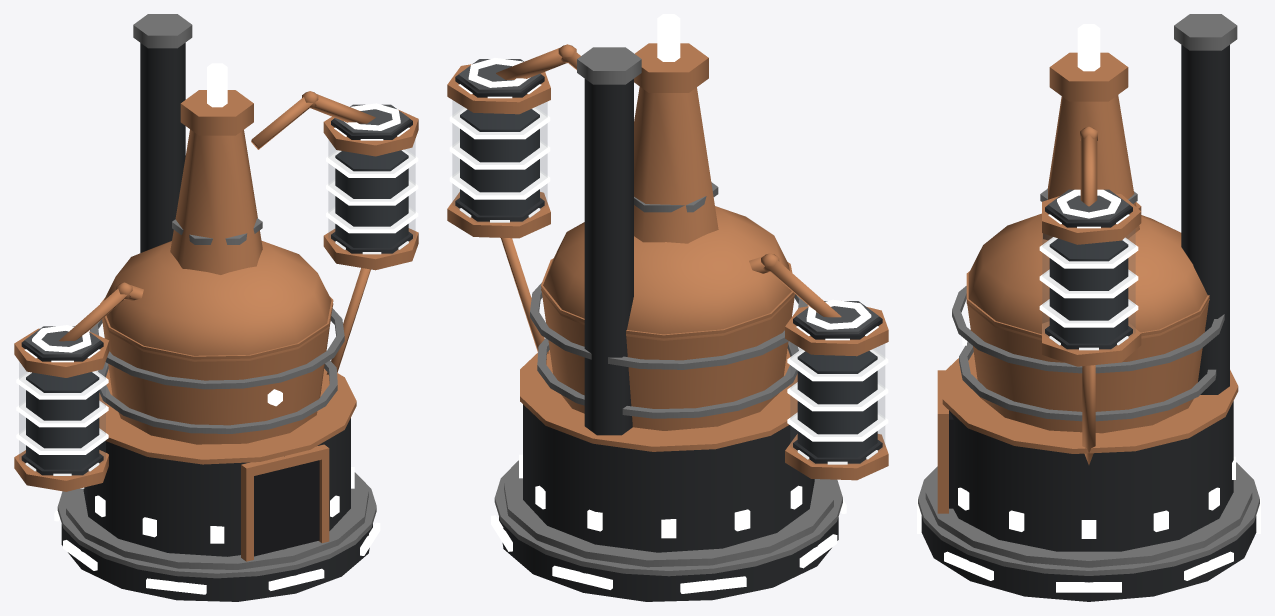
The model's file is Skin_Distillery_T2.glb.
The picture shows the model from 3 angles, left to right: view 1: azimuth 30°, elevation 25°; view 2: azimuth 150°, elevation 25°; view 3: azimuth 270°, elevation 25°; orthographic projection. The views are drawn at different scales.
Visible parts, largest first — view 1: Skin_Distillery_T2; view 2: Skin_Distillery_T2; view 3: Skin_Distillery_T2.
Boxes of the visible parts, left/top/right/bottom form: Skin_Distillery_T2: left=14, top=14, right=418, bottom=601; Skin_Distillery_T2: left=447, top=14, right=888, bottom=601; Skin_Distillery_T2: left=917, top=14, right=1260, bottom=601.
Bounding box in the file's own units: 5.19 × 5.97 × 3.68.
